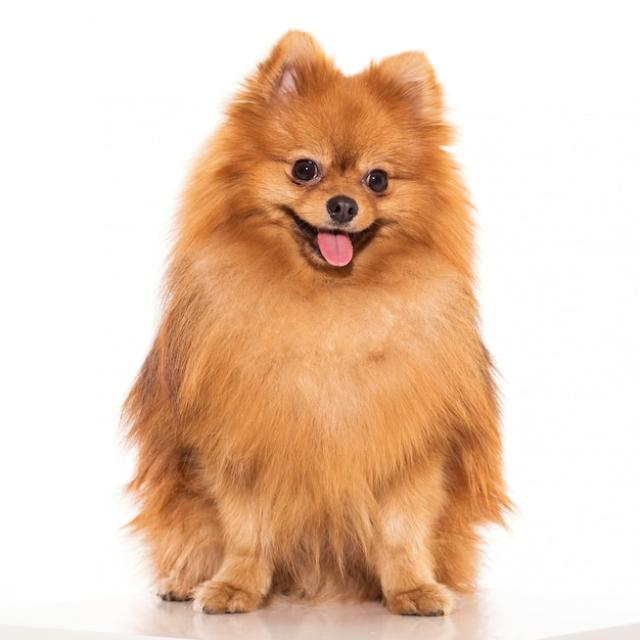Dog: (123, 31, 510, 618)
